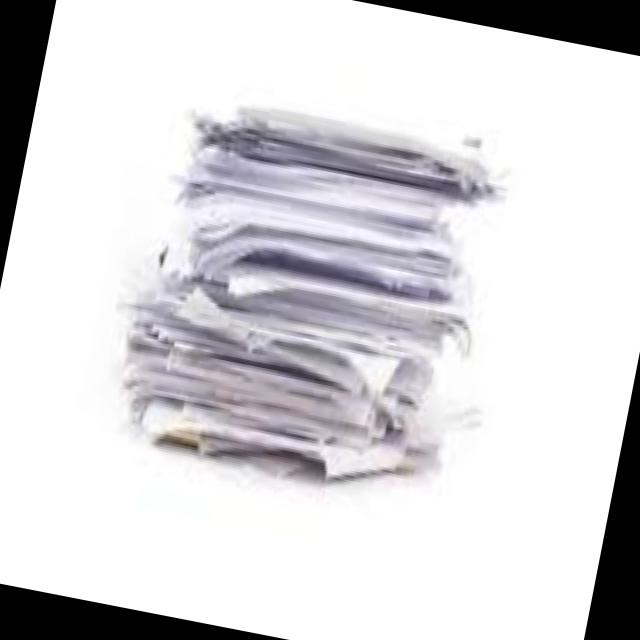KertasBekas: (92, 72, 530, 512)
